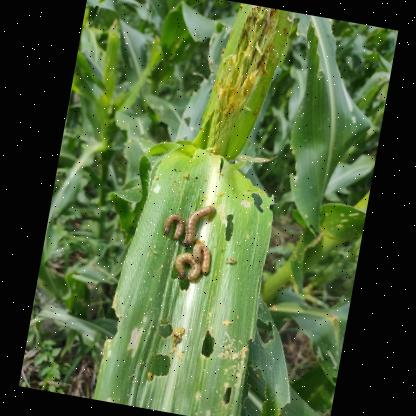Fall Armyworm Larvae: (179, 200, 217, 251), (170, 249, 205, 284), (188, 240, 214, 276), (160, 210, 187, 242)
